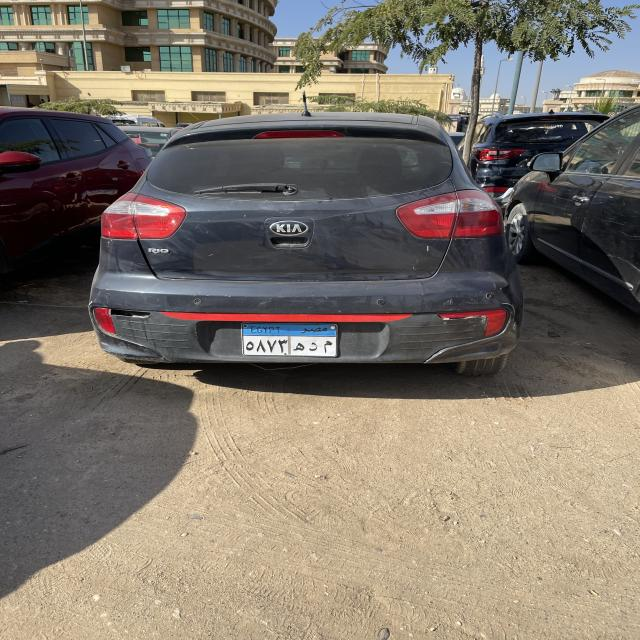License Plate: (242, 322, 337, 357)
